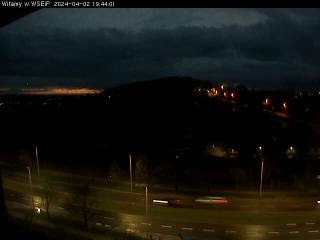car: (193, 195, 229, 207), (152, 194, 181, 206)
